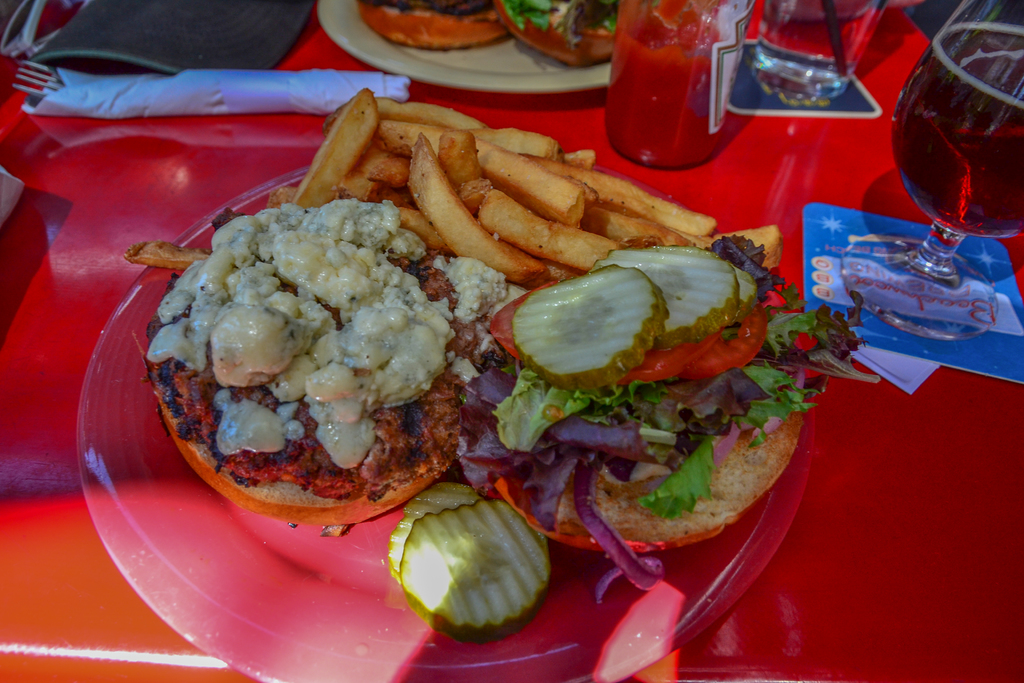French fries: (327, 105, 714, 306), (125, 238, 209, 267)
